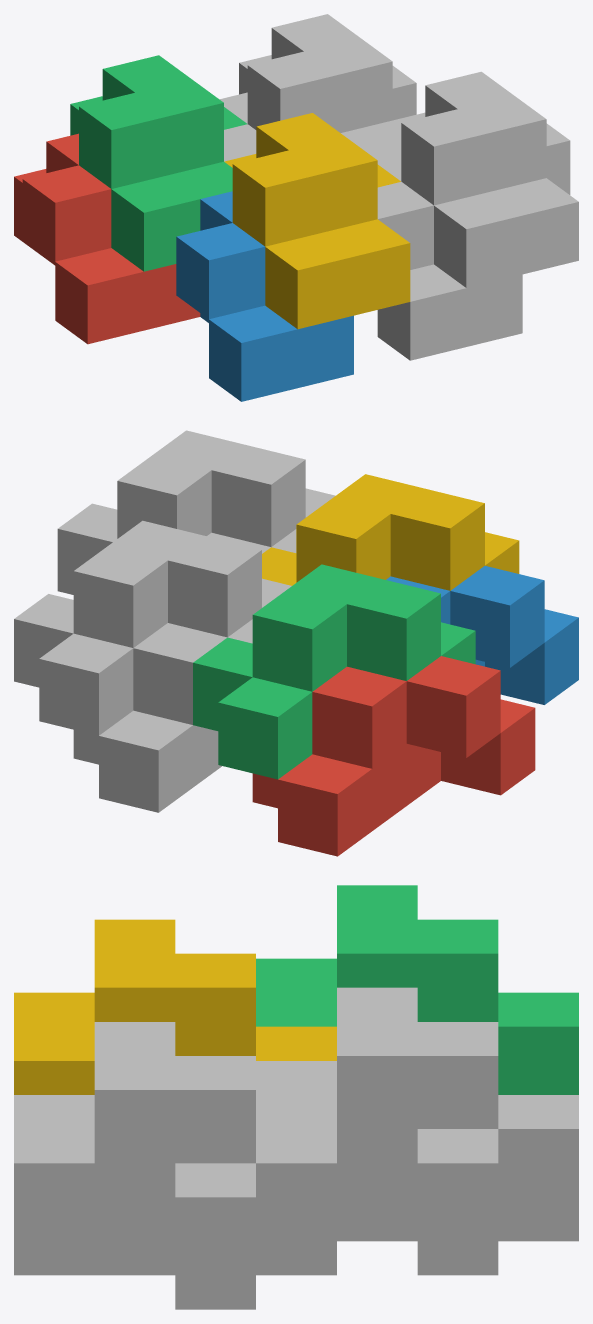
File: tiling.obj
The picture shows the model from 3 angles, top to bottom: view 1: azimuth 30°, elevation 25°; view 2: azimuth 150°, elevation 25°; view 3: azimuth 270°, elevation 25°; orthographic projection. The views are drawn at different scales.
Parts seen in each view (by area): view 1: copy_1_domain_8, copy_1_domain_4, copy_1_domain_3, copy_1_domain_2, copy_1_domain_1, copy_1_domain_7, copy_1_domain_6, copy_1_domain_5; view 2: copy_1_domain_1, copy_1_domain_3, copy_1_domain_7, copy_1_domain_8, copy_1_domain_4, copy_1_domain_5, copy_1_domain_2, copy_1_domain_6; view 3: copy_1_domain_8, copy_1_domain_7, copy_1_domain_3, copy_1_domain_4, copy_1_domain_6, copy_1_domain_5.
Boxes of the visible parts, left/top/right/bottom form: copy_1_domain_8: left=393, top=71, right=578, bottom=287; copy_1_domain_4: left=224, top=113, right=410, bottom=329; copy_1_domain_3: left=70, top=55, right=247, bottom=271; copy_1_domain_2: left=176, top=191, right=353, bottom=401; copy_1_domain_1: left=14, top=133, right=200, bottom=344; copy_1_domain_7: left=239, top=14, right=416, bottom=156; copy_1_domain_6: left=373, top=150, right=522, bottom=360; copy_1_domain_5: left=220, top=92, right=256, bottom=161; copy_1_domain_1: left=252, top=656, right=535, bottom=856; copy_1_domain_3: left=193, top=564, right=475, bottom=779; copy_1_domain_7: left=14, top=520, right=291, bottom=735; copy_1_domain_8: left=57, top=430, right=335, bottom=594; copy_1_domain_4: left=262, top=474, right=519, bottom=590; copy_1_domain_5: left=73, top=619, right=252, bottom=812; copy_1_domain_2: left=386, top=566, right=578, bottom=704; copy_1_domain_6: left=207, top=529, right=296, bottom=553; copy_1_domain_8: left=14, top=1022, right=336, bottom=1270; copy_1_domain_7: left=256, top=987, right=578, bottom=1236; copy_1_domain_3: left=256, top=885, right=578, bottom=1094; copy_1_domain_4: left=14, top=919, right=336, bottom=1094; copy_1_domain_6: left=14, top=1236, right=336, bottom=1309; copy_1_domain_5: left=337, top=1202, right=578, bottom=1275.
Size of the model in its own units: 8 by 3 by 7.
